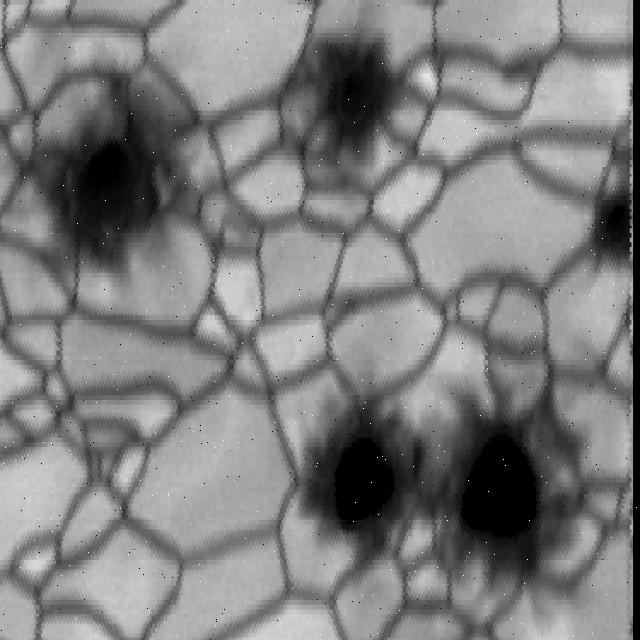good_void: (285, 346, 592, 626), (8, 47, 219, 307), (287, 11, 419, 178), (589, 80, 632, 269)
